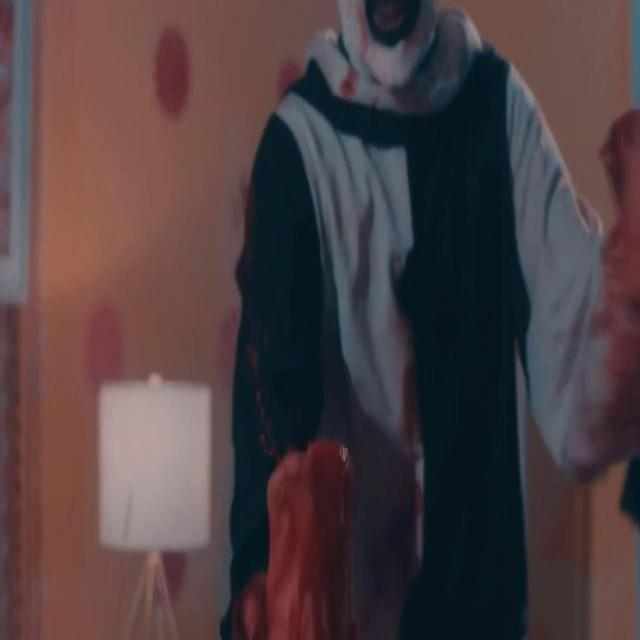flood: (240, 414, 384, 640)
